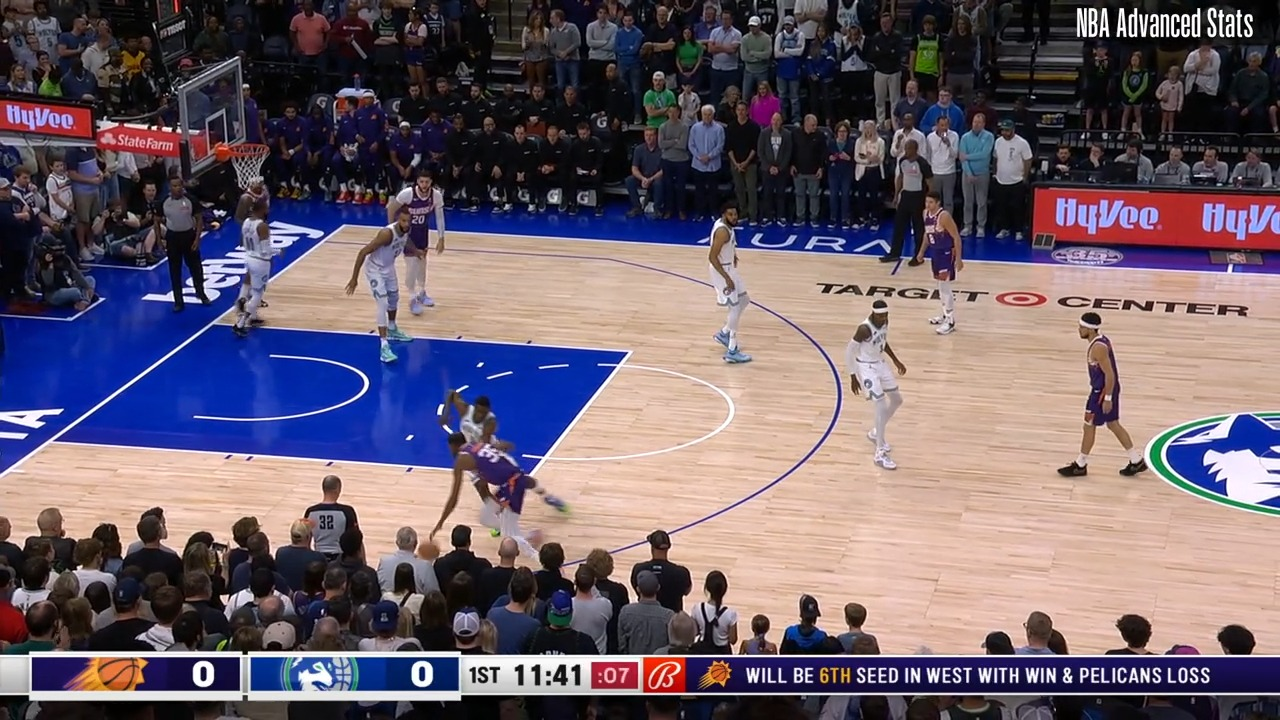basketball: (417, 540, 441, 564)
